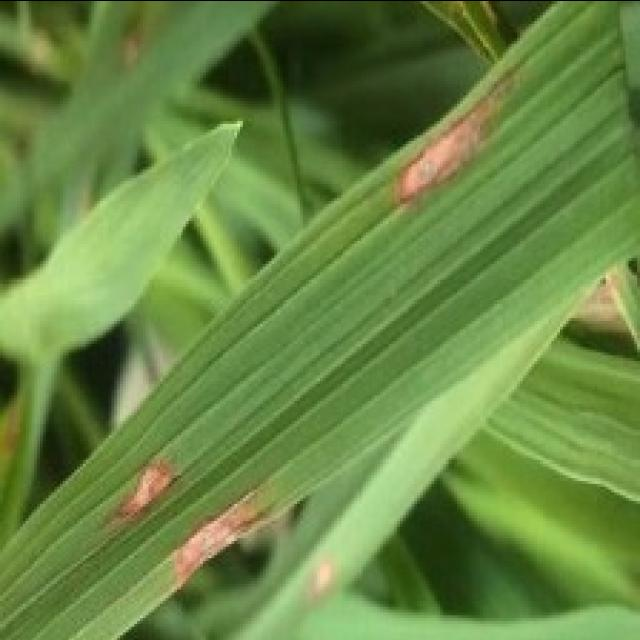Unhealthy: (394, 83, 506, 211), (173, 501, 266, 590), (106, 462, 173, 532), (304, 555, 336, 603)
